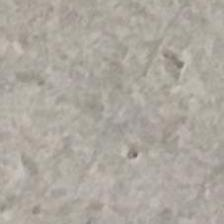Non_Crack: (32, 4, 170, 224)
